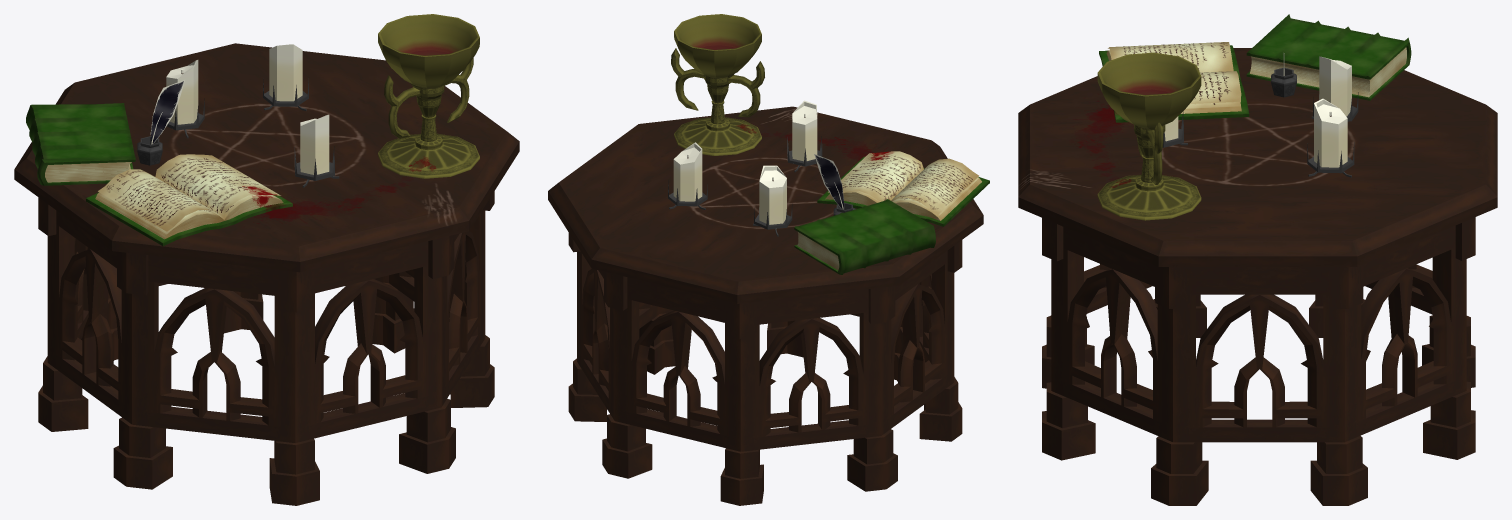
Rendered from maya2sketchfab.fbx.
3 renders of one model, left to right at view 1: azimuth 30°, elevation 25°; view 2: azimuth 150°, elevation 25°; view 3: azimuth 270°, elevation 25°, orthographic. The views are drawn at different scales.
Visible parts, largest first — view 1: pCube60, polySurface19, polySurface13, polySurface15, polySurface27, polySurface25, polySurface26, polySurface31, InkWell; view 2: pCube60, polySurface19, polySurface13, polySurface15, polySurface27, polySurface26, polySurface25, polySurface31; view 3: pCube60, polySurface19, polySurface15, polySurface13, polySurface27, polySurface26, InkWell.
Part boxes in pixels (x1,y1,x2,y2): pCube60: (14, 43, 519, 505); polySurface19: (378, 14, 479, 178); polySurface13: (86, 154, 292, 246); polySurface15: (26, 103, 135, 185); polySurface27: (263, 44, 308, 110); polySurface25: (294, 114, 339, 187); polySurface26: (166, 60, 204, 138); polySurface31: (150, 80, 184, 144); InkWell: (137, 136, 162, 165); pCube60: (548, 106, 983, 505); polySurface19: (671, 14, 764, 155); polySurface13: (817, 151, 989, 226); polySurface15: (794, 199, 935, 274); polySurface27: (668, 142, 707, 209); polySurface26: (753, 165, 792, 236); polySurface25: (787, 100, 822, 172); polySurface31: (814, 154, 843, 209); pCube60: (1018, 48, 1497, 505); polySurface19: (1097, 52, 1201, 220); polySurface15: (1246, 14, 1411, 100); polySurface13: (1099, 42, 1249, 122); polySurface27: (1307, 98, 1354, 177); polySurface26: (1311, 56, 1358, 121); InkWell: (1271, 67, 1296, 97).
Size of the model in its own units: 10.82 by 9.58 by 10.57.
